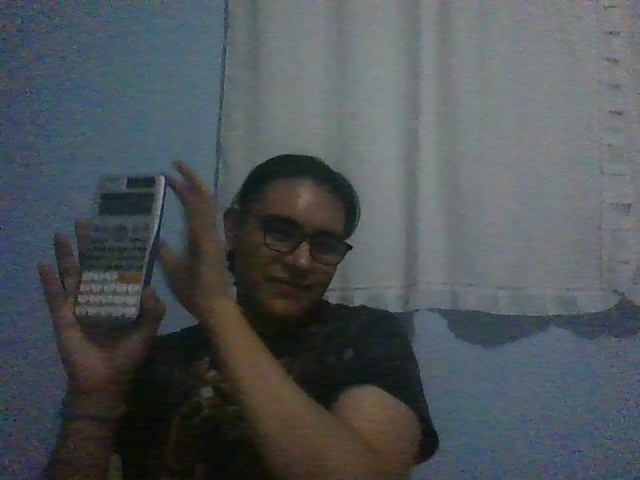calculadora: (73, 174, 167, 325)
